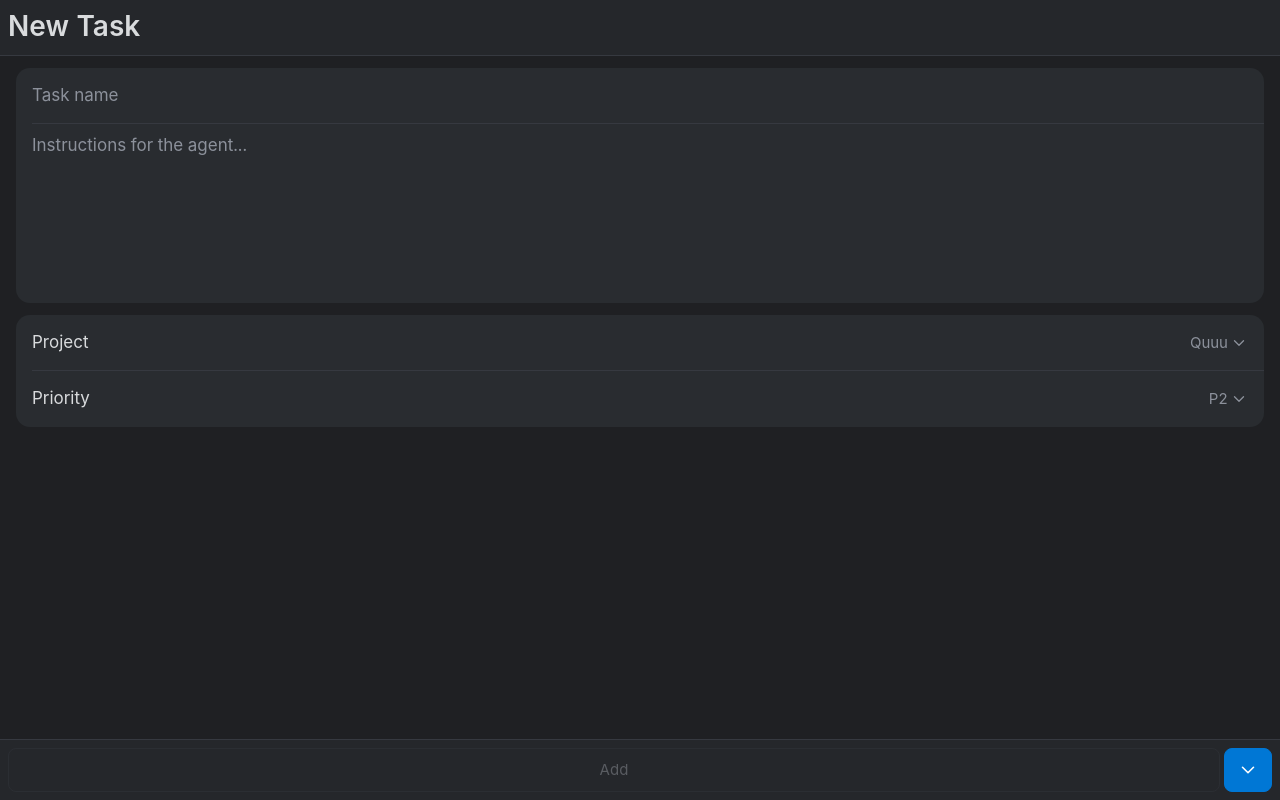
Scenario: the new task surface › keeps the input when the device write fails, and shows the reason in place
This screenshot has width=1280, height=800.
Type "失いたくない名前" into the field with placeholder "Task name" at {"x": 640, "y": 96}, box [32,82,1248,109]
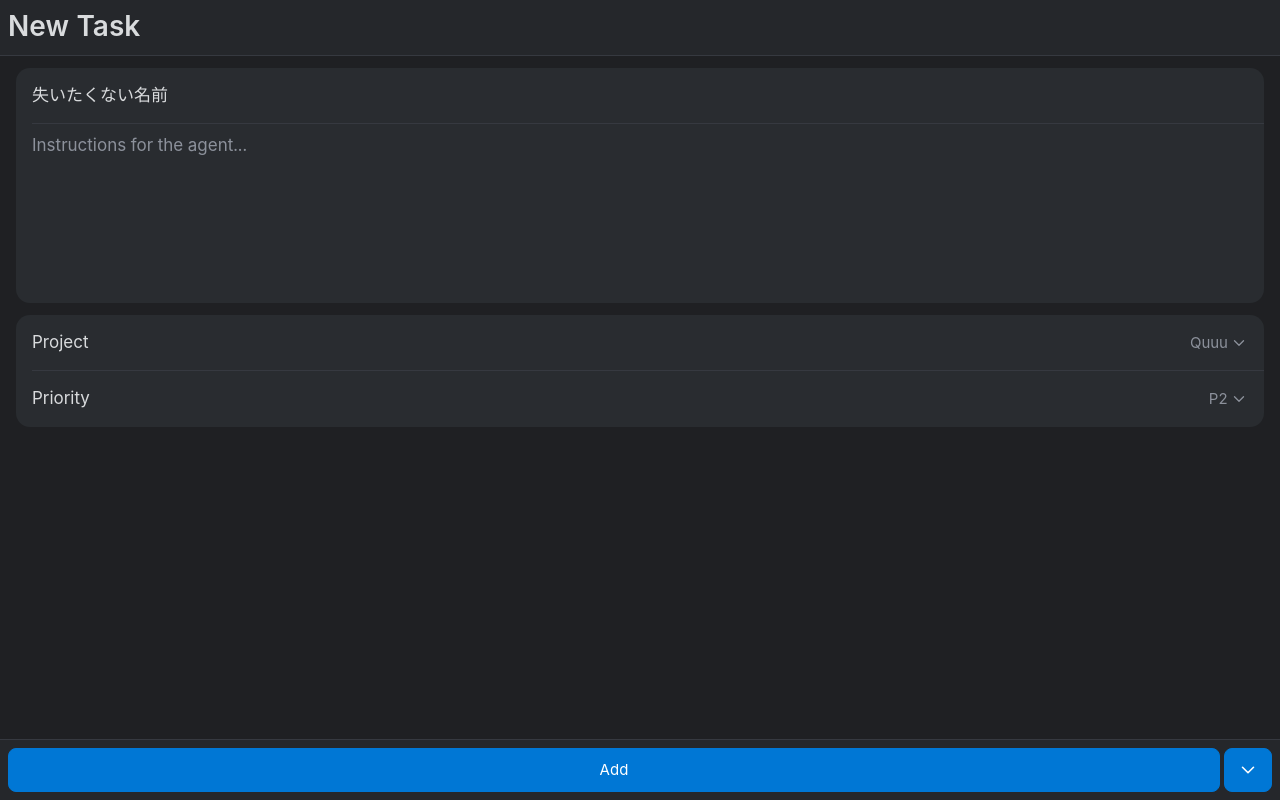
Type "失いたくない指示" into the text box with placeholder "Instructions for the agent..." at {"x": 640, "y": 213}, box [32,132,1248,295]
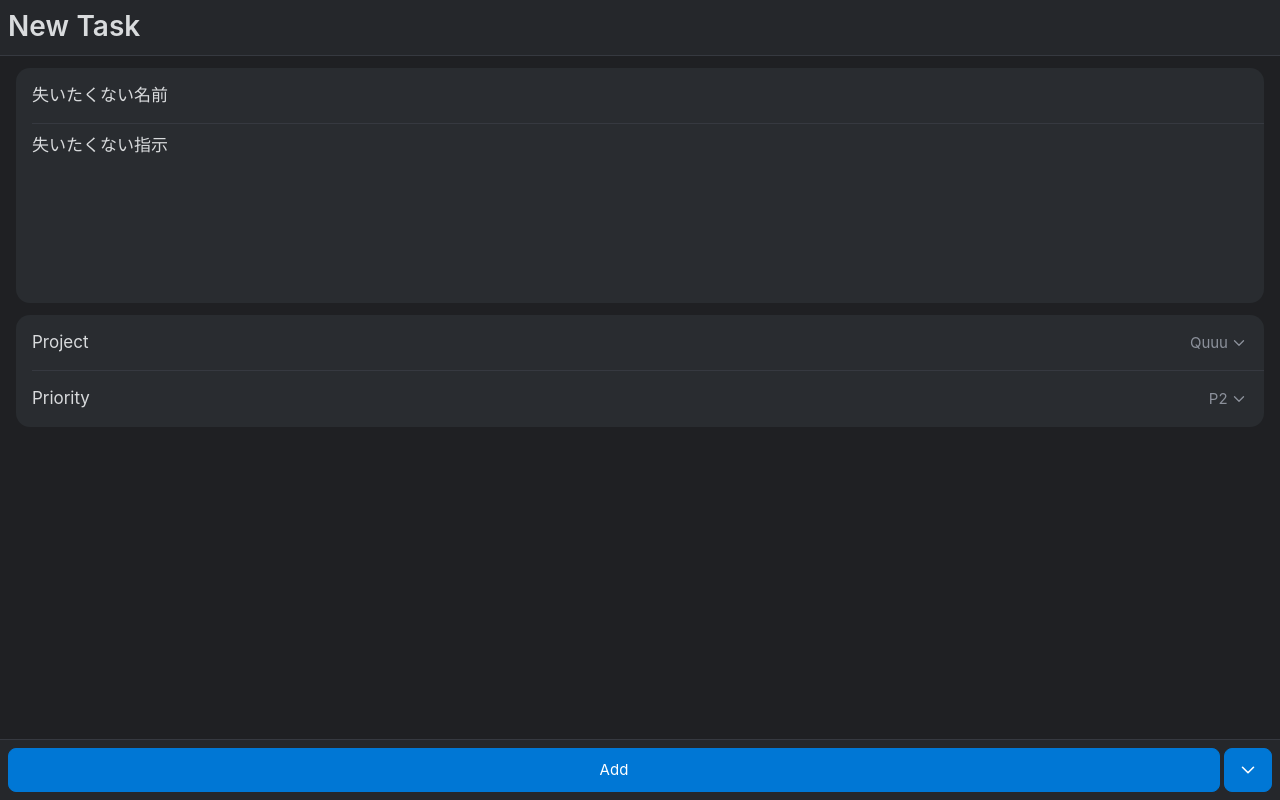
Click the button "Add" at {"x": 614, "y": 770}, box [8,748,1220,792]
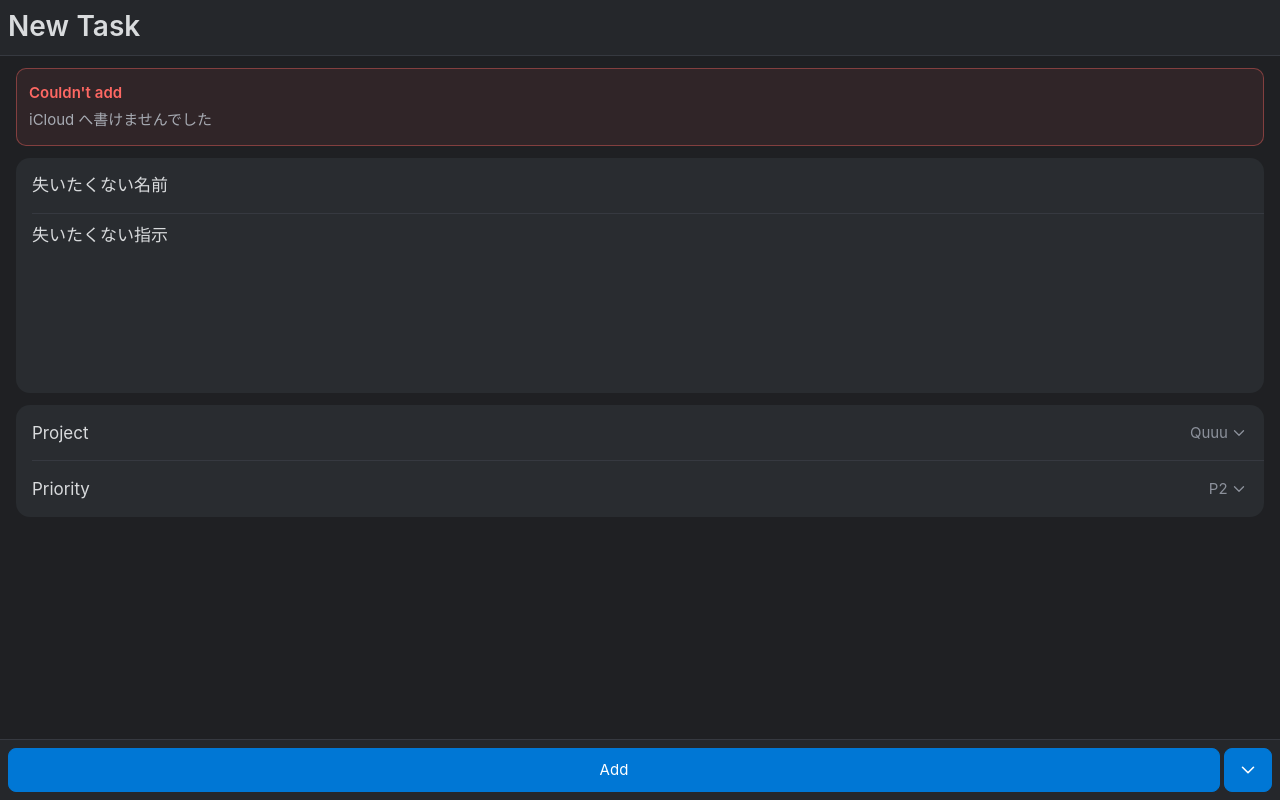
Check: the text "Couldn't add" is shown, box [29,83,122,102]
Check: the text "iCloud へ書けませんでした" is shown, box [29,107,212,133]
